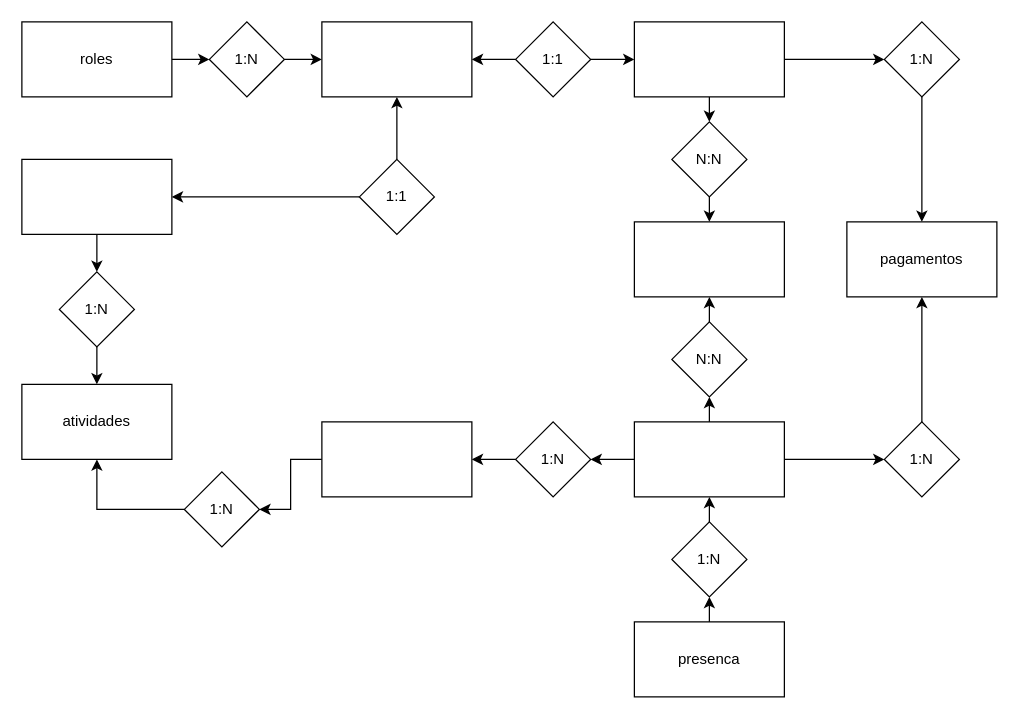
Image size: 1019x719. Some labels were removed from this diagram. The shapes that lost their labels are listed below. From the top down, each one's centre as x and y in pixels, then its label:
At pixel 396 59: "users".
At pixel 708 59: "responsavel".
At pixel 96 196: "professores".
At pixel 708 259: "aluno_responsavel".
At pixel 396 459: "turmas".
At pixel 708 459: "alunos".
